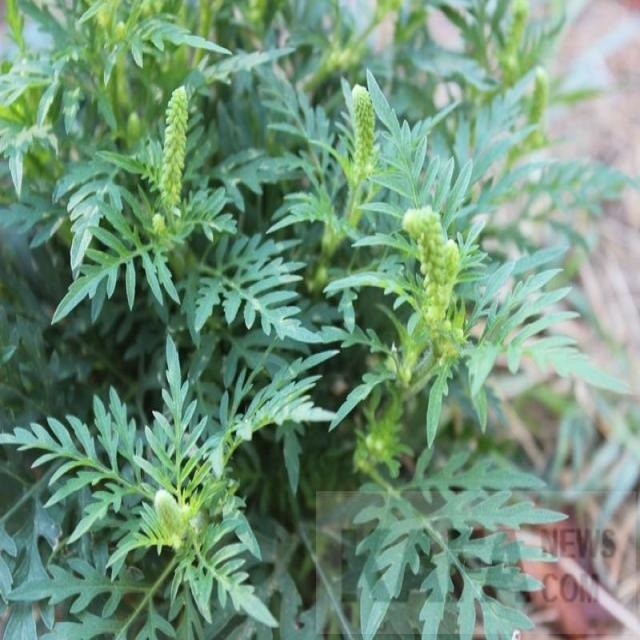ambrosia: (326, 76, 562, 413), (62, 380, 300, 619), (69, 81, 235, 327)
